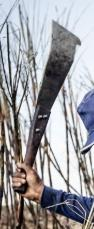MACHETTE: (4, 1, 80, 202)
